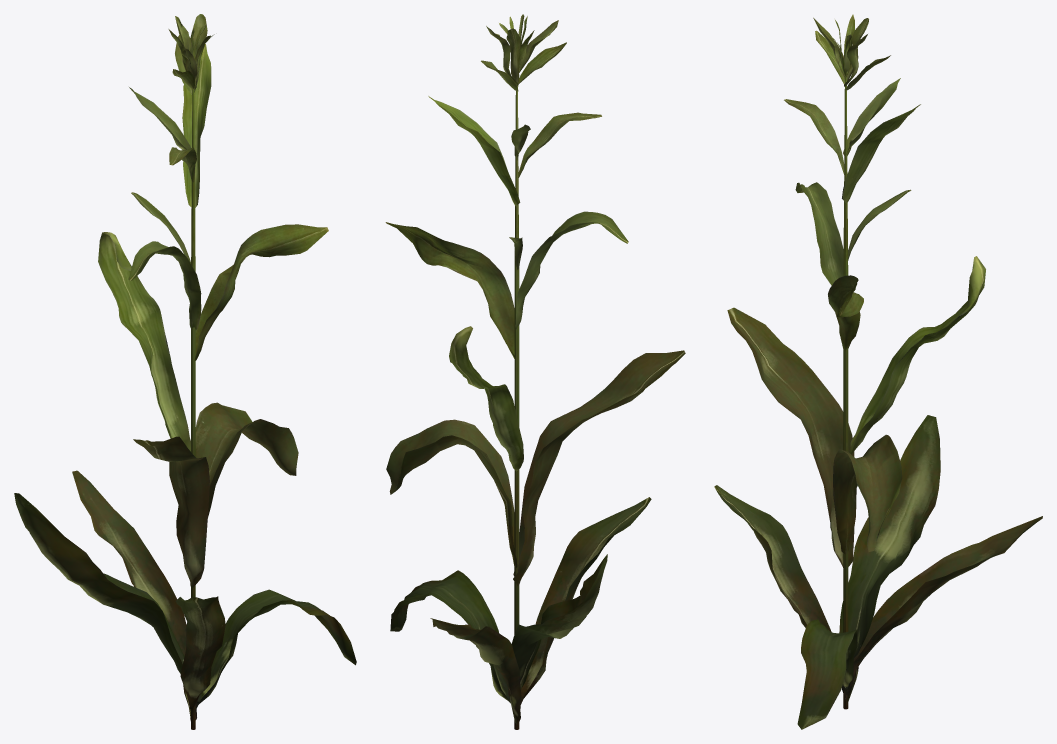
File: maize.glb
3 views of the same model, side by side, from view 1: azimuth 30°, elevation 25°; view 2: azimuth 150°, elevation 25°; view 3: azimuth 270°, elevation 25° (orthographic). The views are drawn at different scales.
Visible parts, largest first — view 1: Pflanze1.001; view 2: Pflanze1.001; view 3: Pflanze1.001.
Part boxes in pixels (<box>): Pflanze1.001: <box>14,14,356,729</box>; Pflanze1.001: <box>385,14,685,729</box>; Pflanze1.001: <box>714,14,1042,729</box>.
Size of the model in its own units: 103 by 256 by 111.
Materials: 1 (1 with a texture image).
